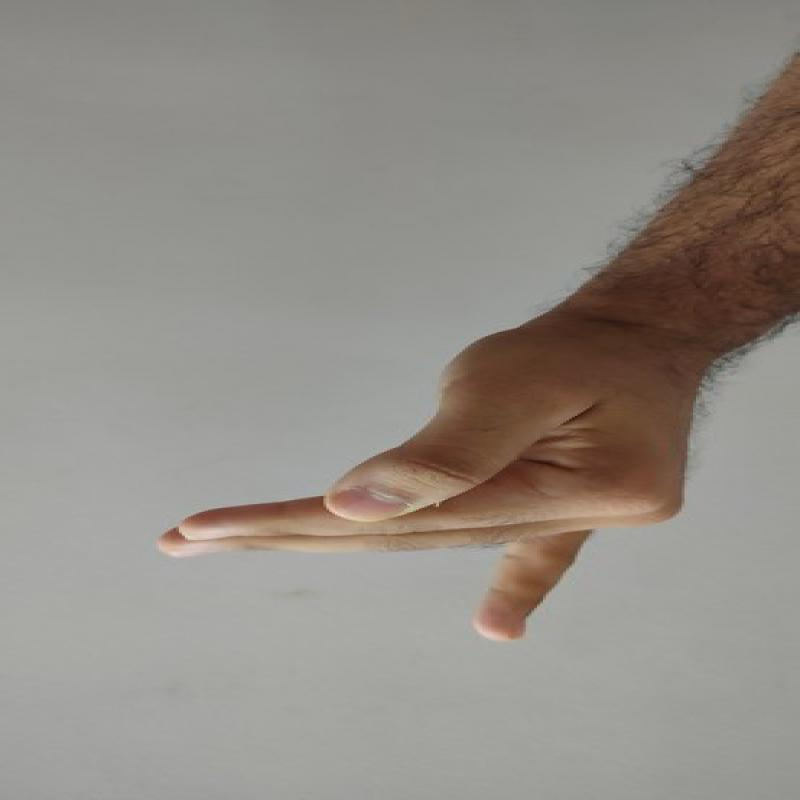Kartharee Mukham: (136, 308, 717, 658)
